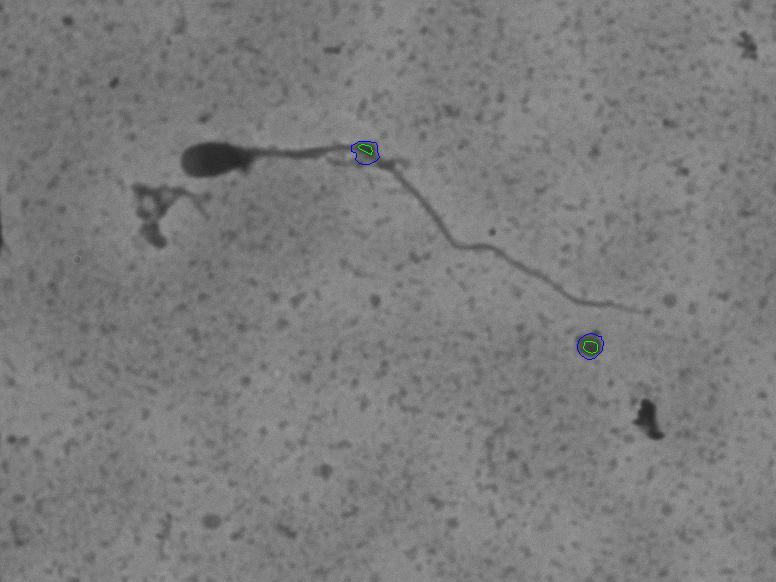Normal: (162, 104, 637, 326)
